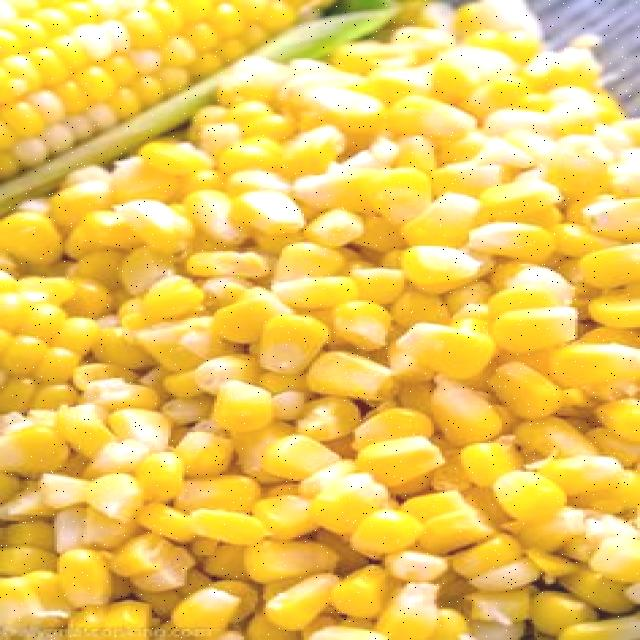Corn: (146, 157, 581, 576)
